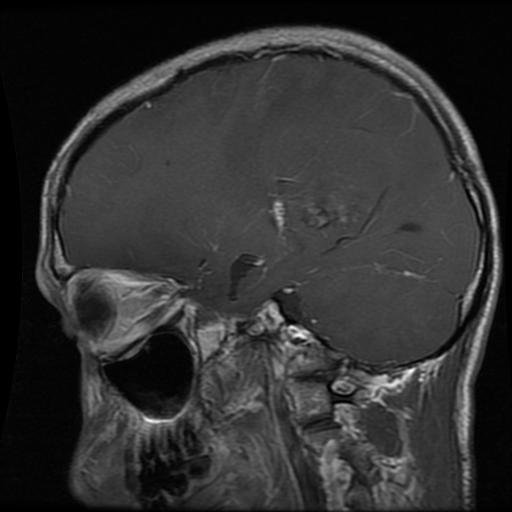Gliomia_tumour: (271, 173, 371, 239)
